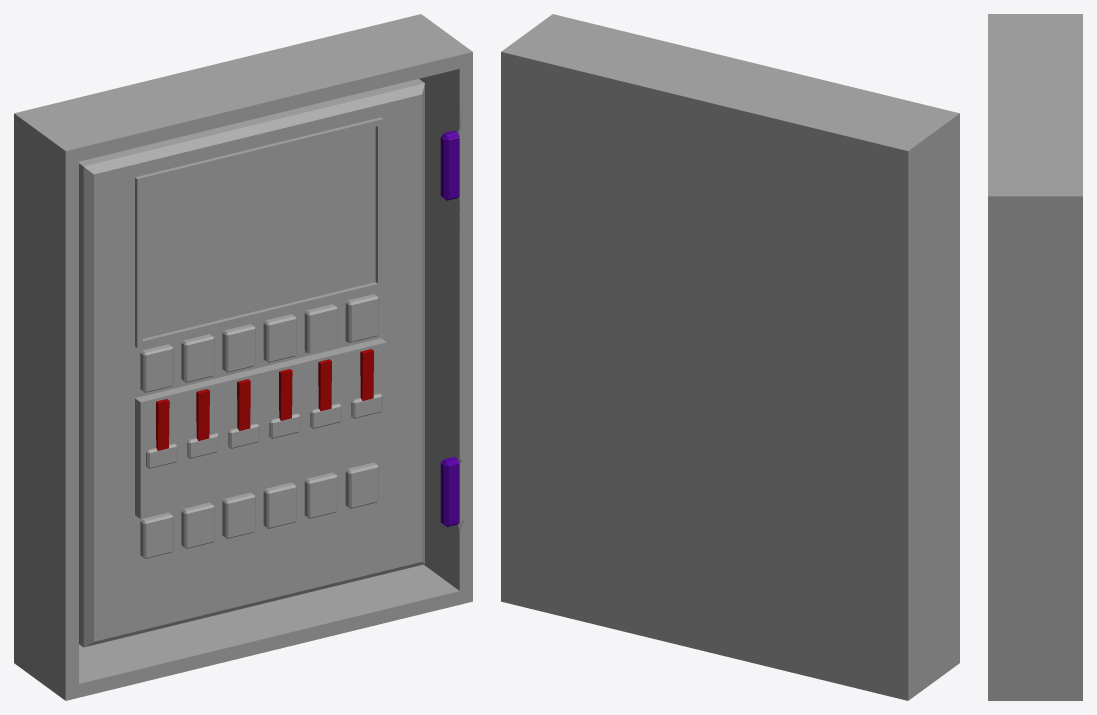
The model's file is Fusebox.fbx.
3 views of the same model, side by side, from view 1: azimuth 30°, elevation 25°; view 2: azimuth 150°, elevation 25°; view 3: azimuth 270°, elevation 25° (orthographic). The views are drawn at different scales.
Parts seen in each view (by area): view 1: Fuse_Box, Fuse_3, Fuse_2, Fuse_5, Fuse_6; view 2: Fuse_Box; view 3: Fuse_Box.
Boxes of the visible parts, left/top/right/bottom form: Fuse_Box: left=14, top=14, right=472, bottom=700; Fuse_3: left=237, top=379, right=250, bottom=430; Fuse_2: left=196, top=389, right=209, bottom=440; Fuse_5: left=318, top=359, right=331, bottom=411; Fuse_6: left=360, top=349, right=373, bottom=400; Fuse_Box: left=501, top=14, right=959, bottom=700; Fuse_Box: left=988, top=14, right=1082, bottom=700.
Size of the model in its own units: 0.3722 by 0.4803 by 0.0819.
